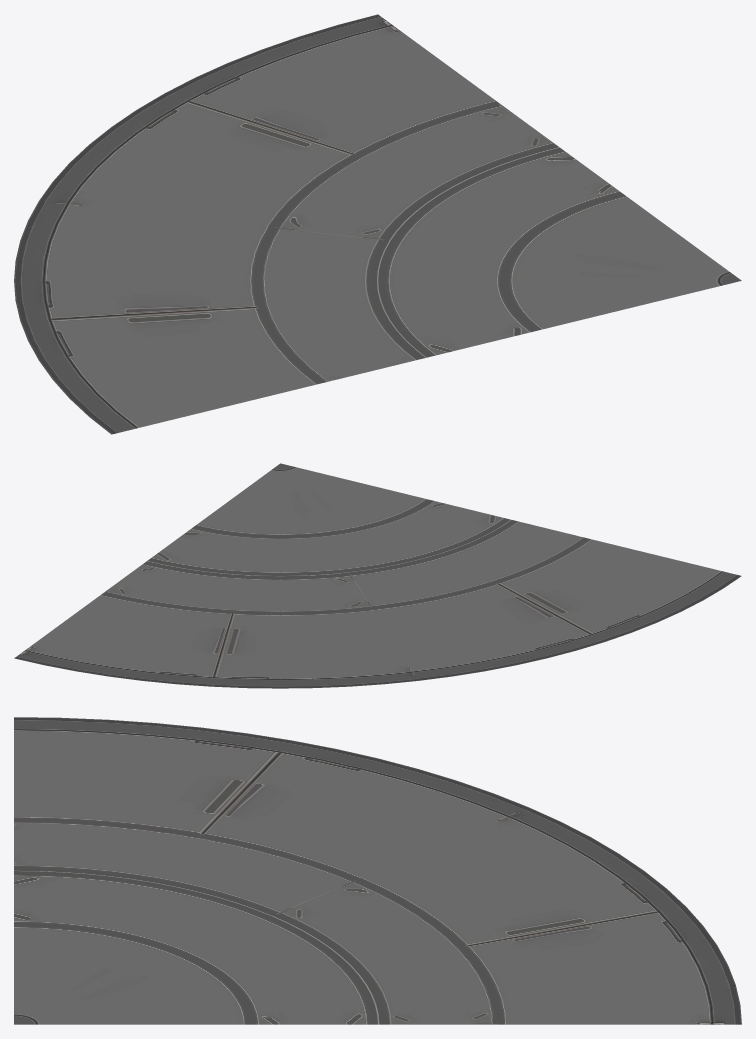
The model's file is Platform_Metal2_Curve.glb.
3 renders of one model, top to bottom at view 1: azimuth 30°, elevation 25°; view 2: azimuth 150°, elevation 25°; view 3: azimuth 270°, elevation 25°, orthographic. The views are drawn at different scales.
Parts seen in each view (by area): view 1: Platform_Metal2_Curve; view 2: Platform_Metal2_Curve; view 3: Platform_Metal2_Curve.
Part boxes in pixels (x1=…): Platform_Metal2_Curve: x1=14, y1=14, x2=741, y2=434; Platform_Metal2_Curve: x1=14, y1=463, x2=741, y2=688; Platform_Metal2_Curve: x1=14, y1=717, x2=741, y2=1024.
Size of the model in its own units: 4 by 0 by 4.
1 material, 1 textured.
